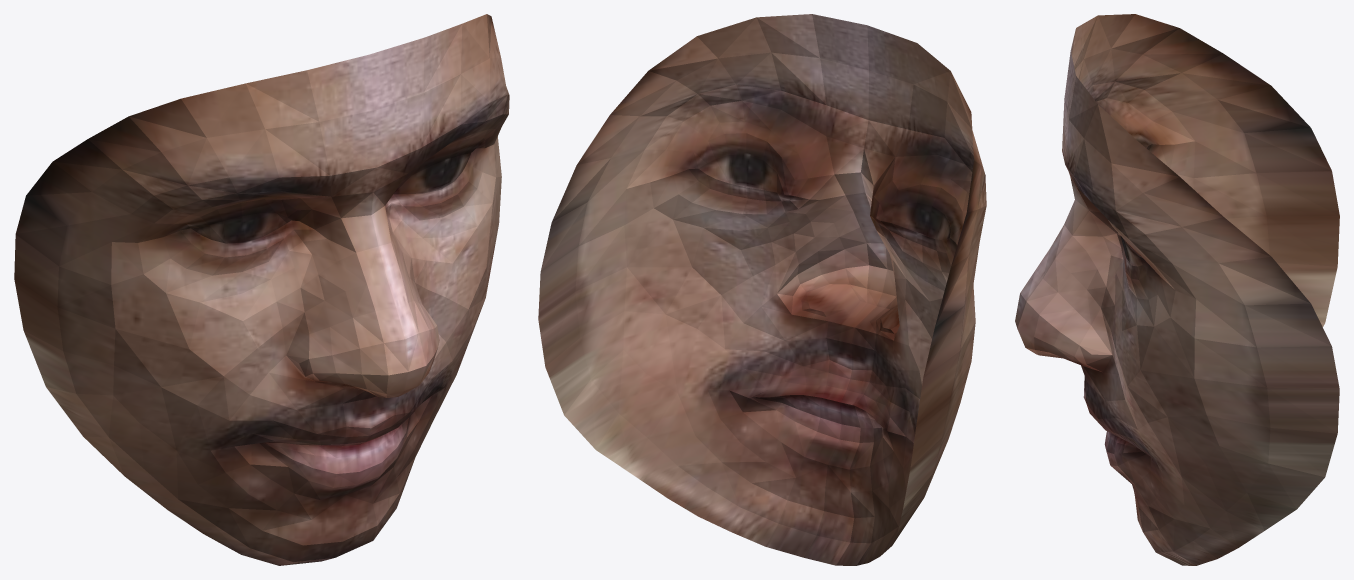
The picture shows the model from 3 angles, left to right: view 1: azimuth 30°, elevation 25°; view 2: azimuth 150°, elevation 25°; view 3: azimuth 270°, elevation 25°; orthographic projection. The views are drawn at different scales.
Bounding box in the file's own units: 1.62 × 2 × 1.18.
1 material, 1 textured.
